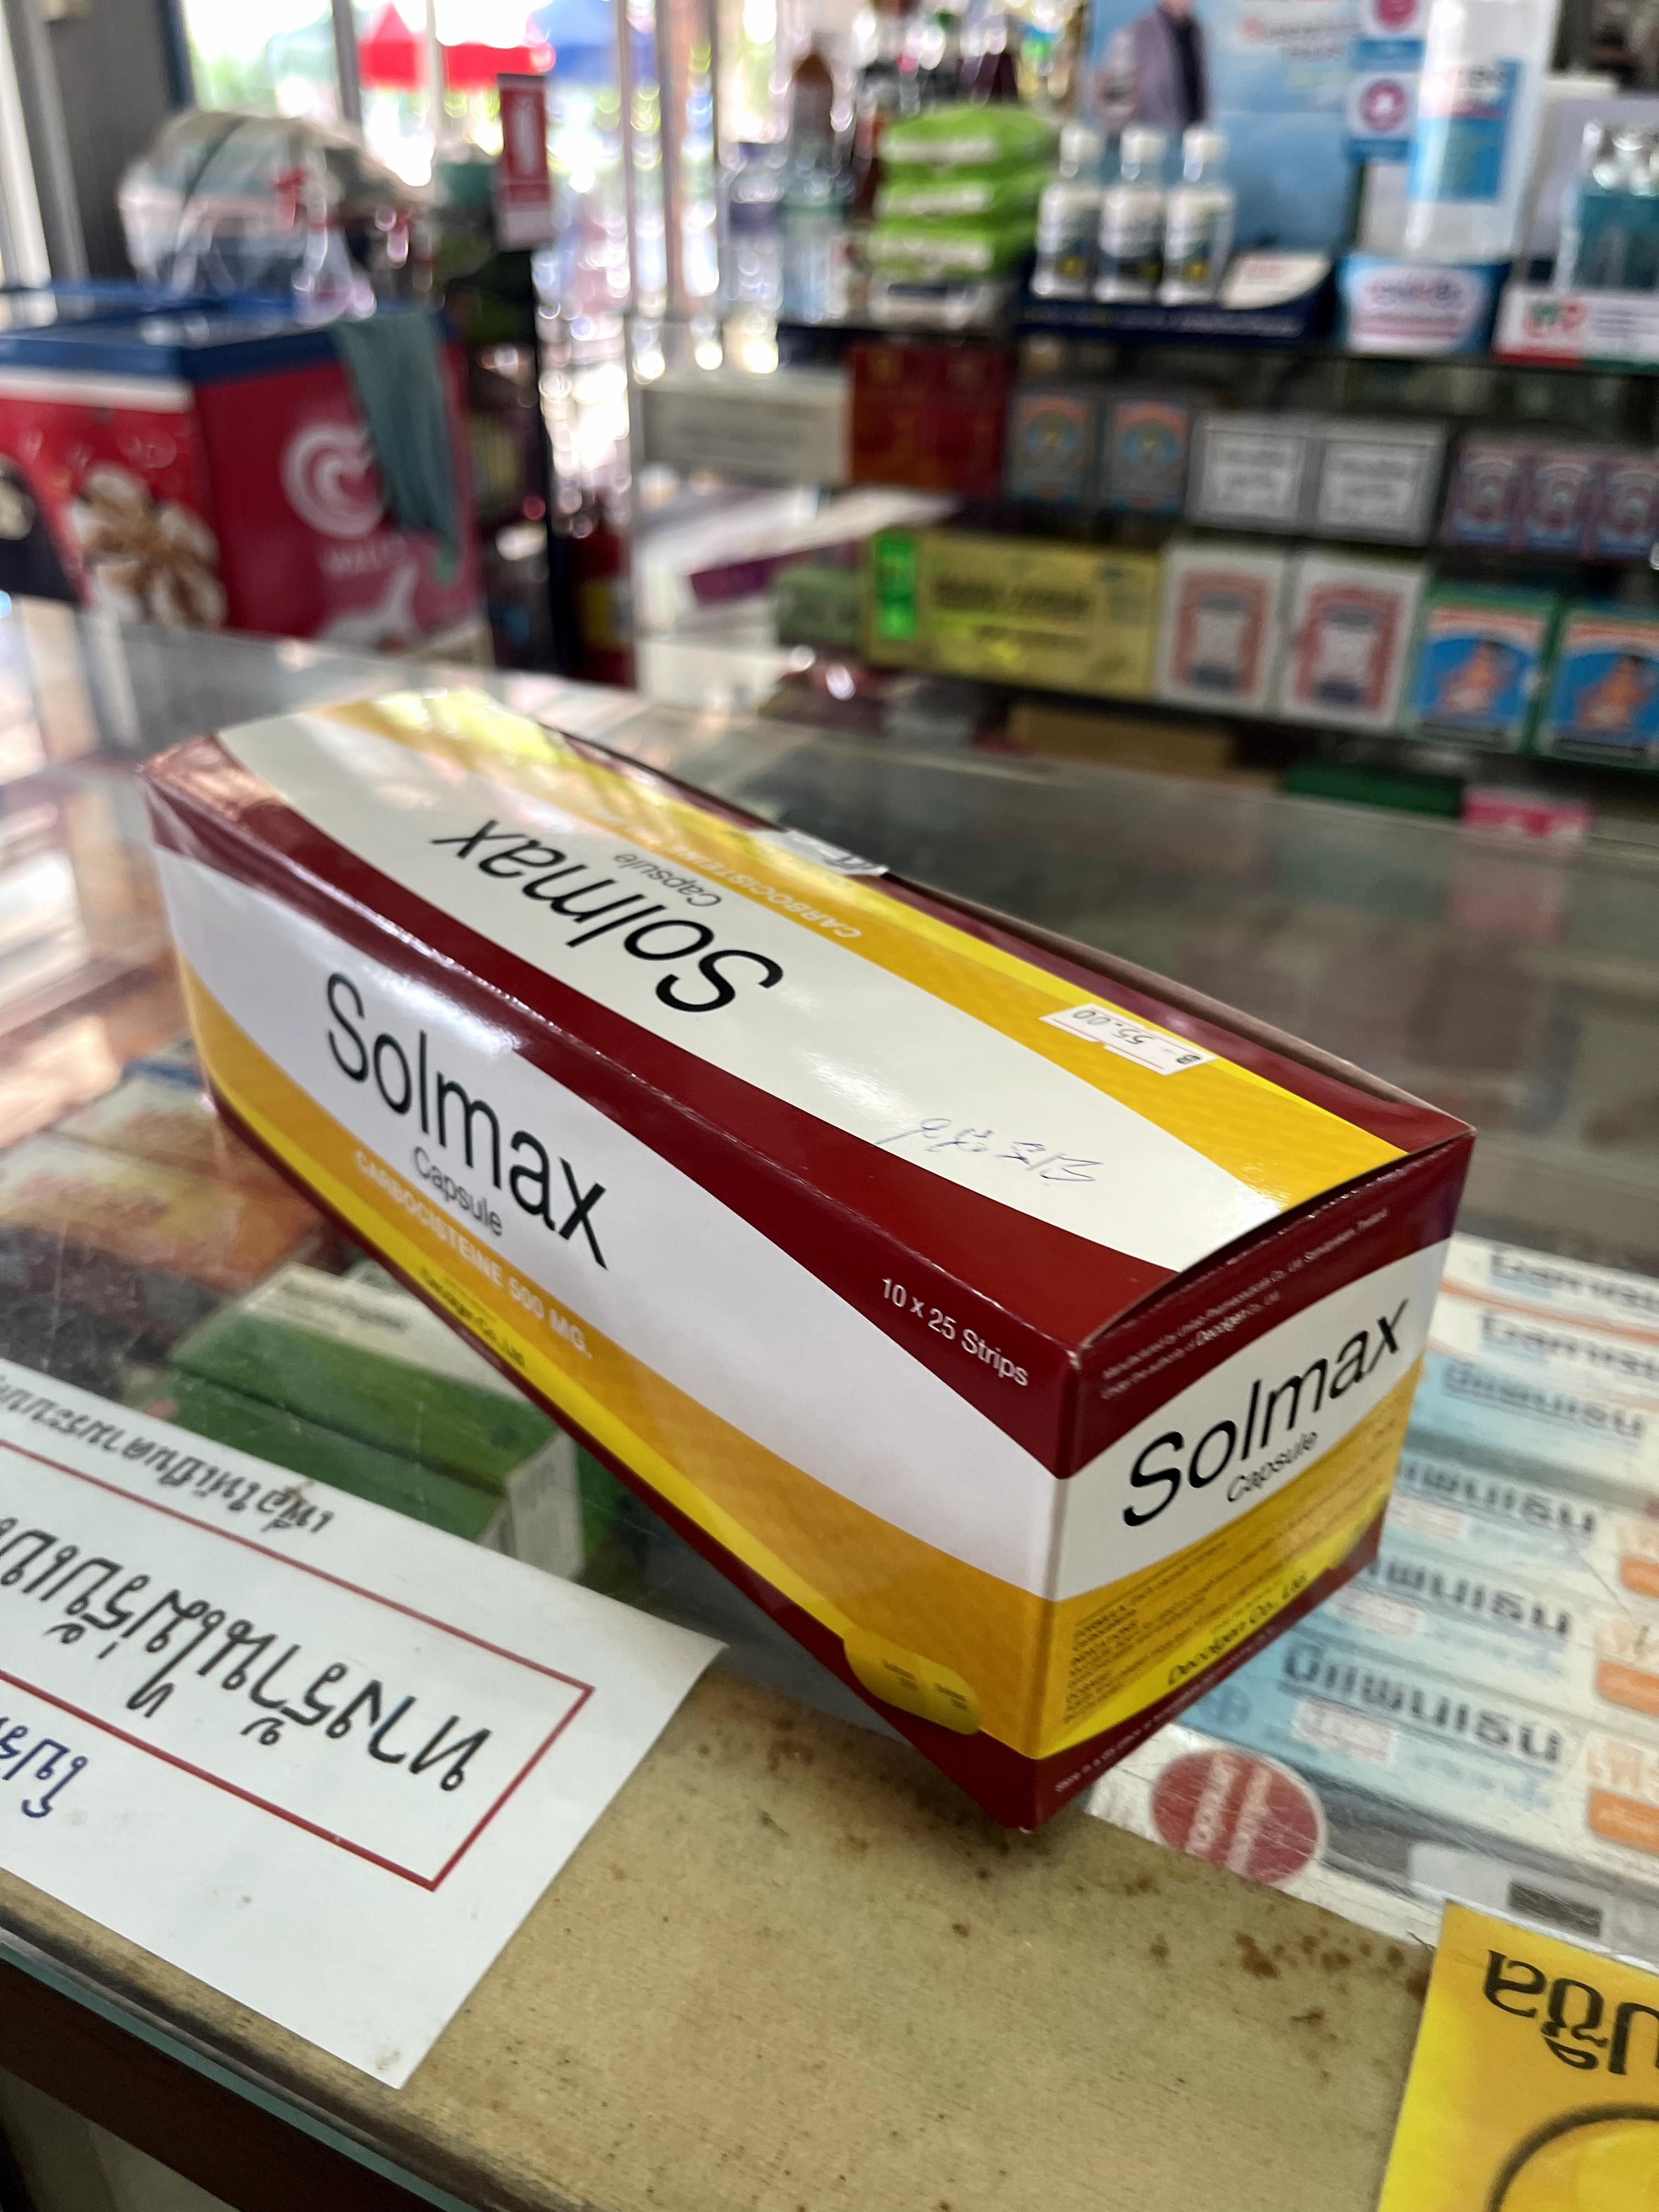Solmax-Capsule: (127, 658, 1478, 1839)
